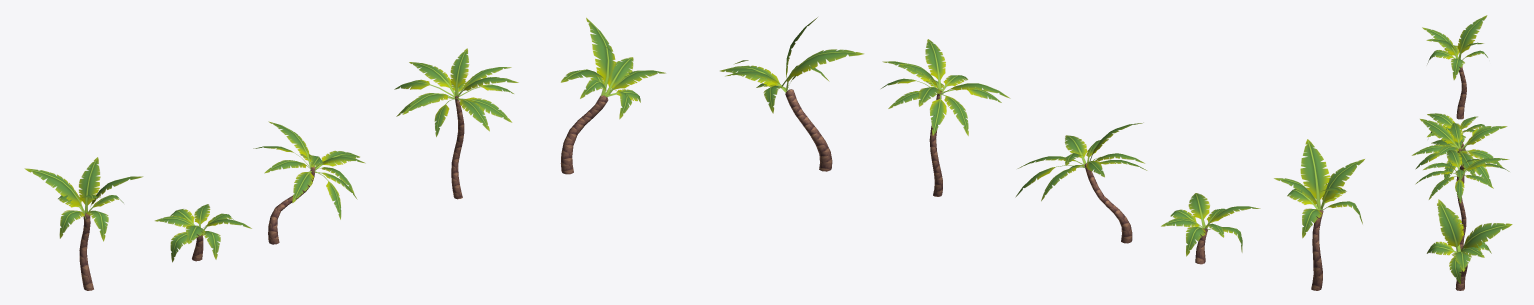
Rendered from midnightPalmTrees.glb.
3 renders of one model, left to right at view 1: azimuth 30°, elevation 25°; view 2: azimuth 150°, elevation 25°; view 3: azimuth 270°, elevation 25°, orthographic. The views are drawn at different scales.
Visible parts, largest first — view 1: PalmTree_1, PalmTree_2, PalmTree_3, PalmTree_4, PalmTree_5; view 2: PalmTree_1, PalmTree_3, PalmTree_2, PalmTree_4, PalmTree_5; view 3: PalmTree_2, PalmTree_4, PalmTree_3, PalmTree_1, PalmTree_5.
Part boxes in pixels (x1,y1,x2,y2): PalmTree_1: (394,48,518,199); PalmTree_2: (560,17,665,174); PalmTree_3: (24,157,143,290); PalmTree_4: (253,121,365,244); PalmTree_5: (154,204,251,262); PalmTree_1: (881,39,1010,196); PalmTree_3: (1274,139,1364,290); PalmTree_2: (720,17,863,171); PalmTree_4: (1015,122,1147,243); PalmTree_5: (1161,193,1260,264); PalmTree_2: (1426,199,1512,290); PalmTree_4: (1412,119,1507,185); PalmTree_3: (1422,15,1487,119); PalmTree_1: (1415,150,1509,249); PalmTree_5: (1427,113,1485,152).
Bounding box in the file's own units: 25.91 × 5.28 × 5.24.
Materials: 2 (2 with a texture image).
